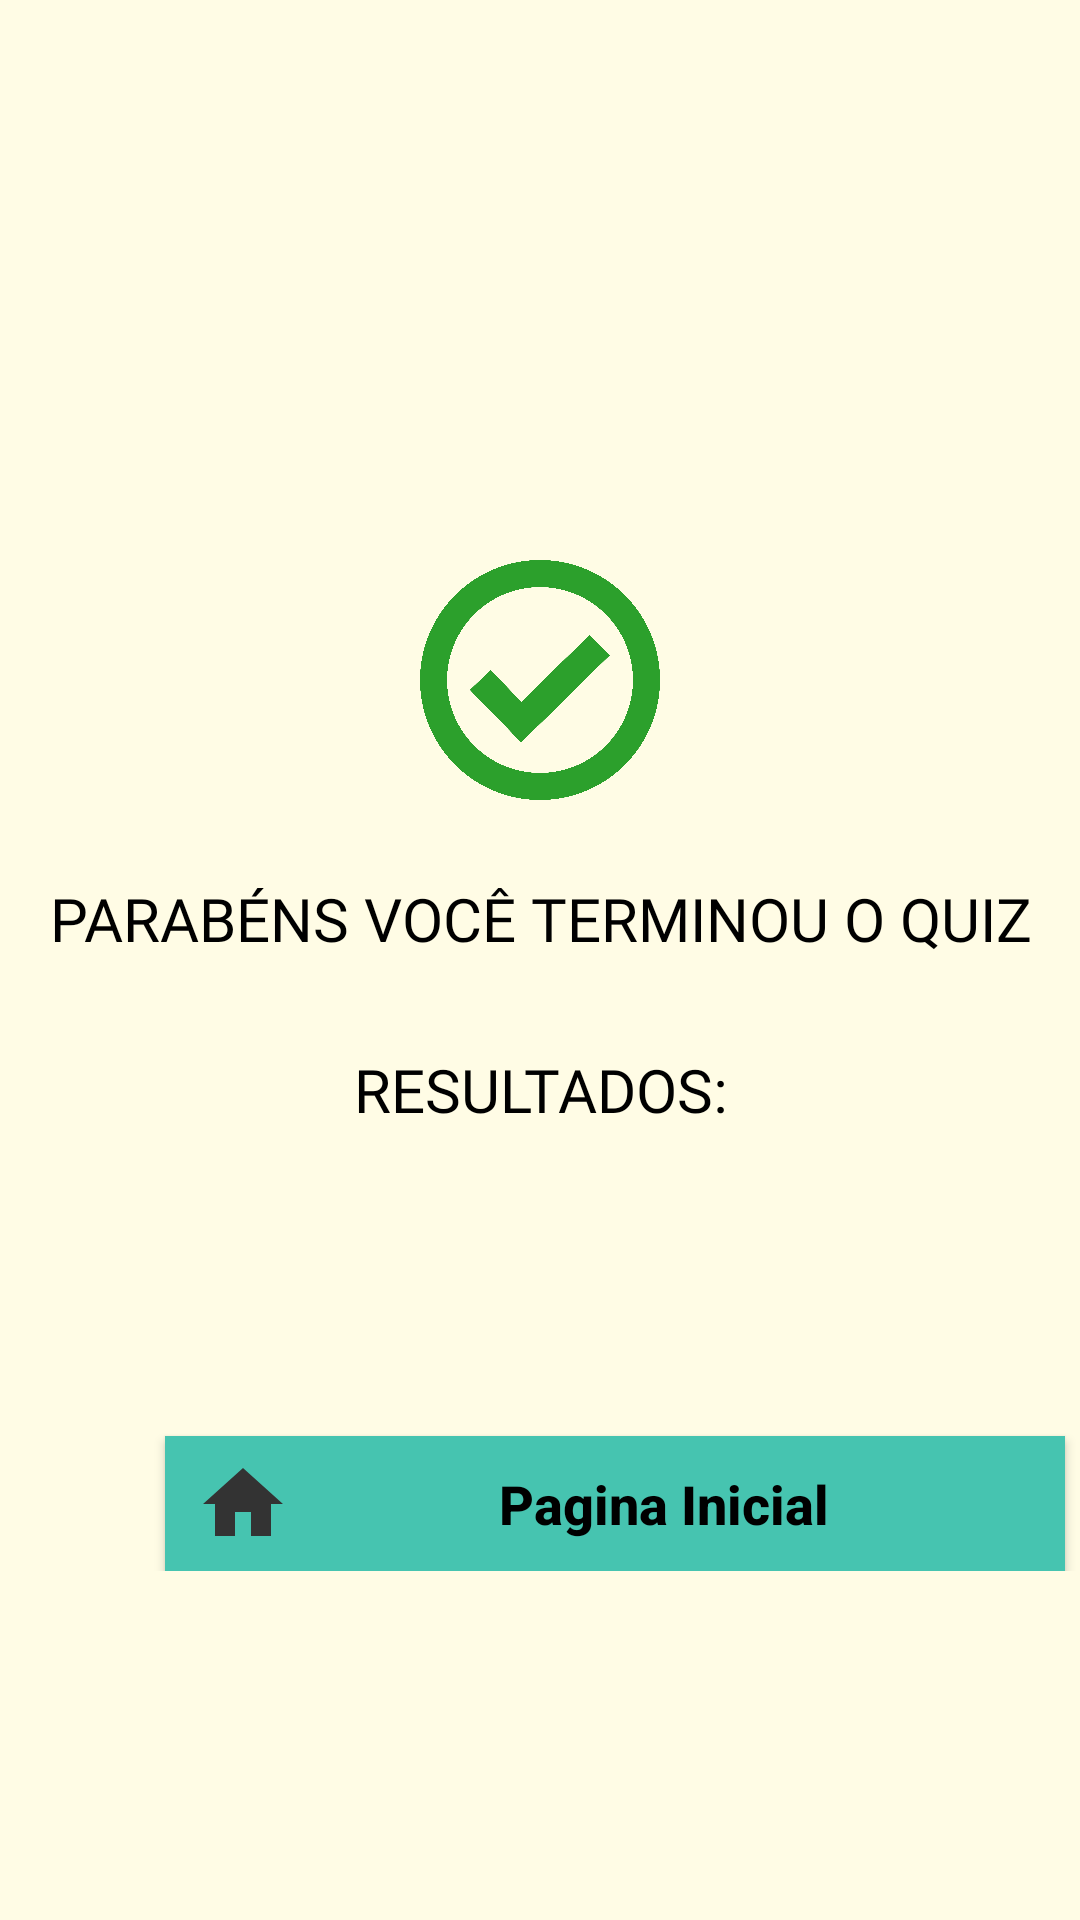

Icon click points for this 1080*1920 phone screenshot, format (x=x, y=y):
acerto: (x=540, y=680)
